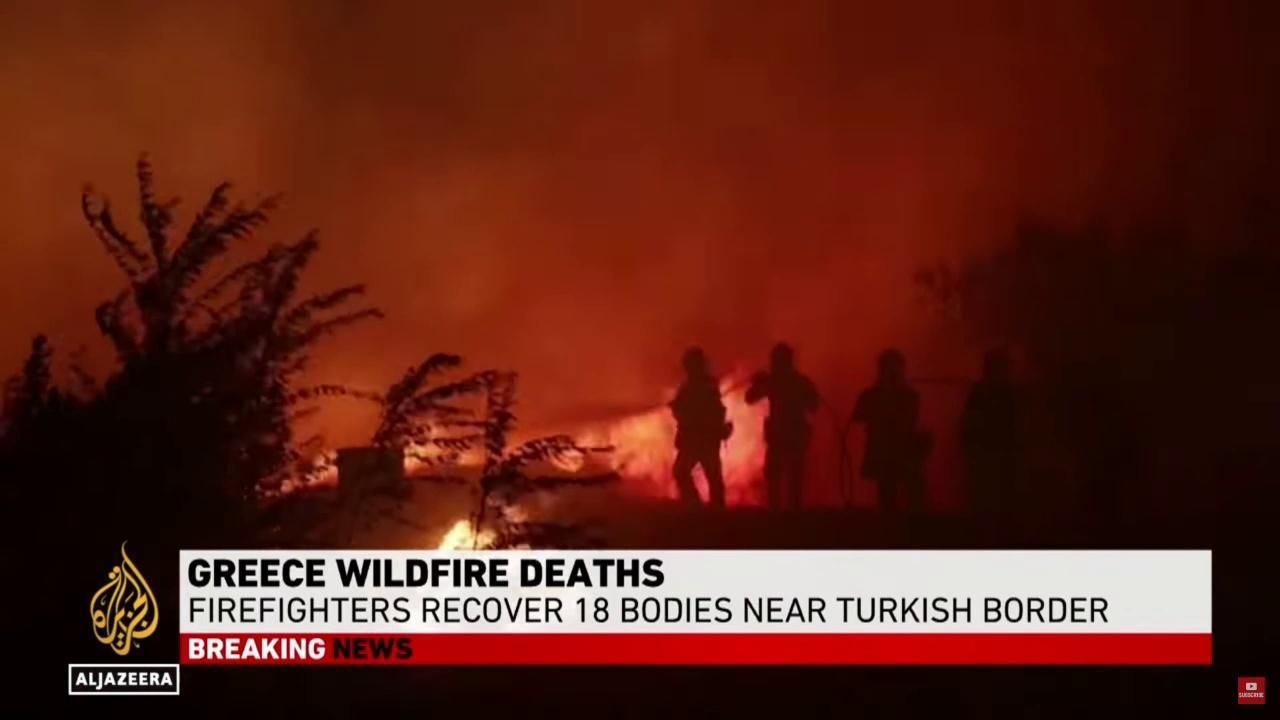fire: (399, 374, 780, 506), (434, 494, 529, 550), (262, 442, 343, 498)
smoke: (0, 0, 1221, 552)
